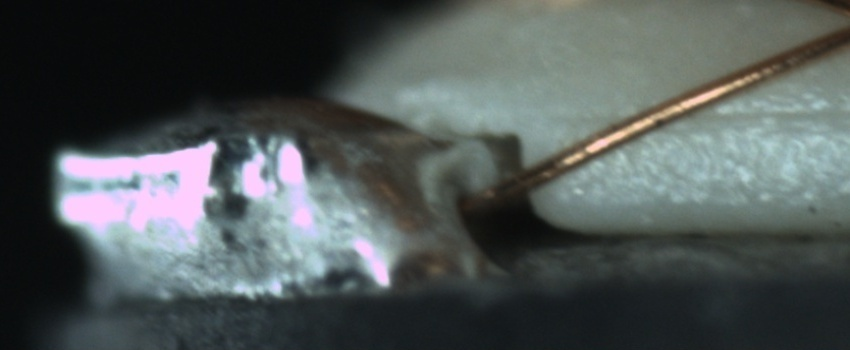DL: (564, 86, 849, 149)
